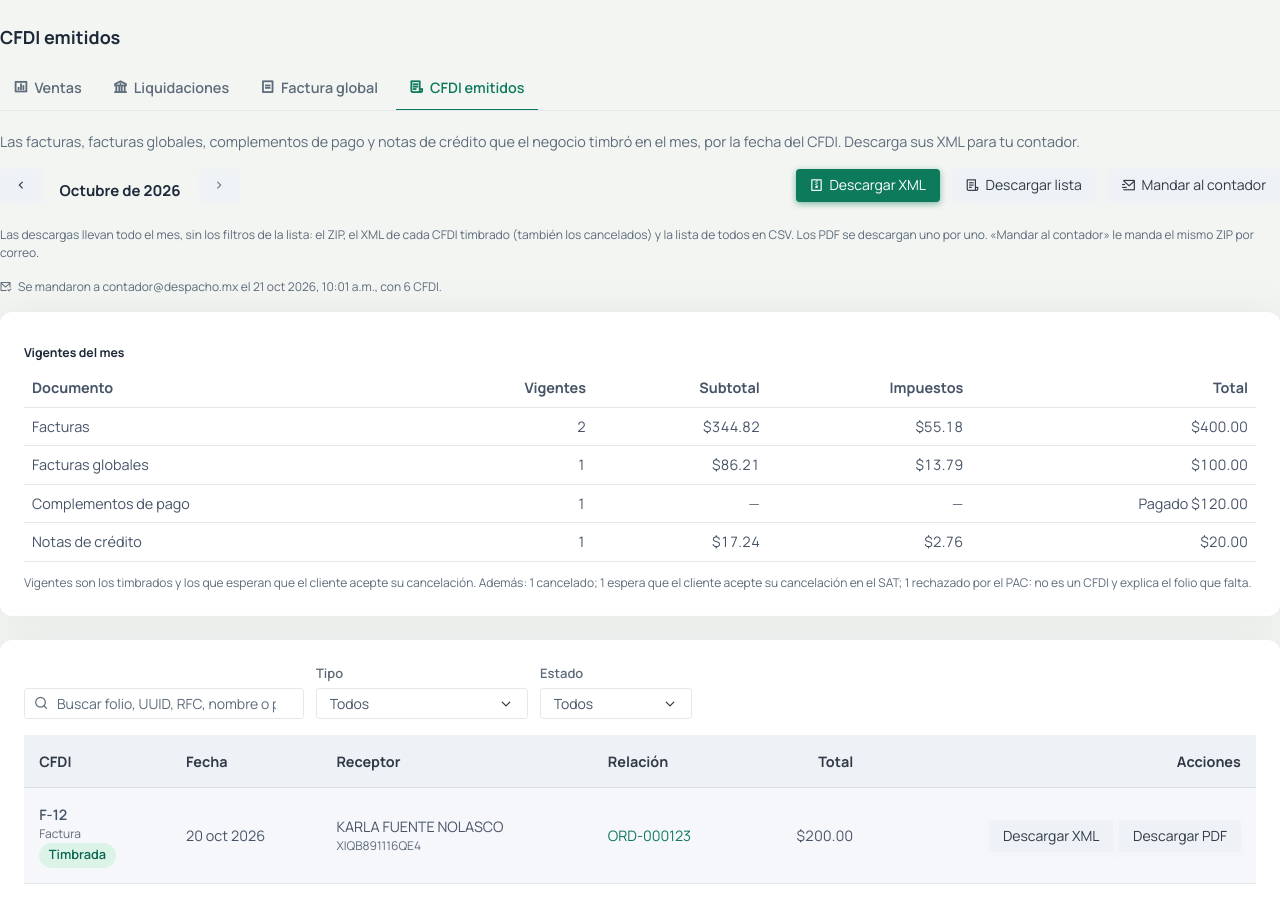
IssuedCfdis › sends the month's file to the accountant at the address the business keeps, and says how it went (Fase 28O)
Expected: the text "Se mandaron a contador@despacho.mx el 21 oct 2026, 10:01 a.m., con 6 CFDI." is shown, [0,278,442,294]
Click the button "Mandar al contador".
click(1194, 185)  # box [1108,169,1279,202]
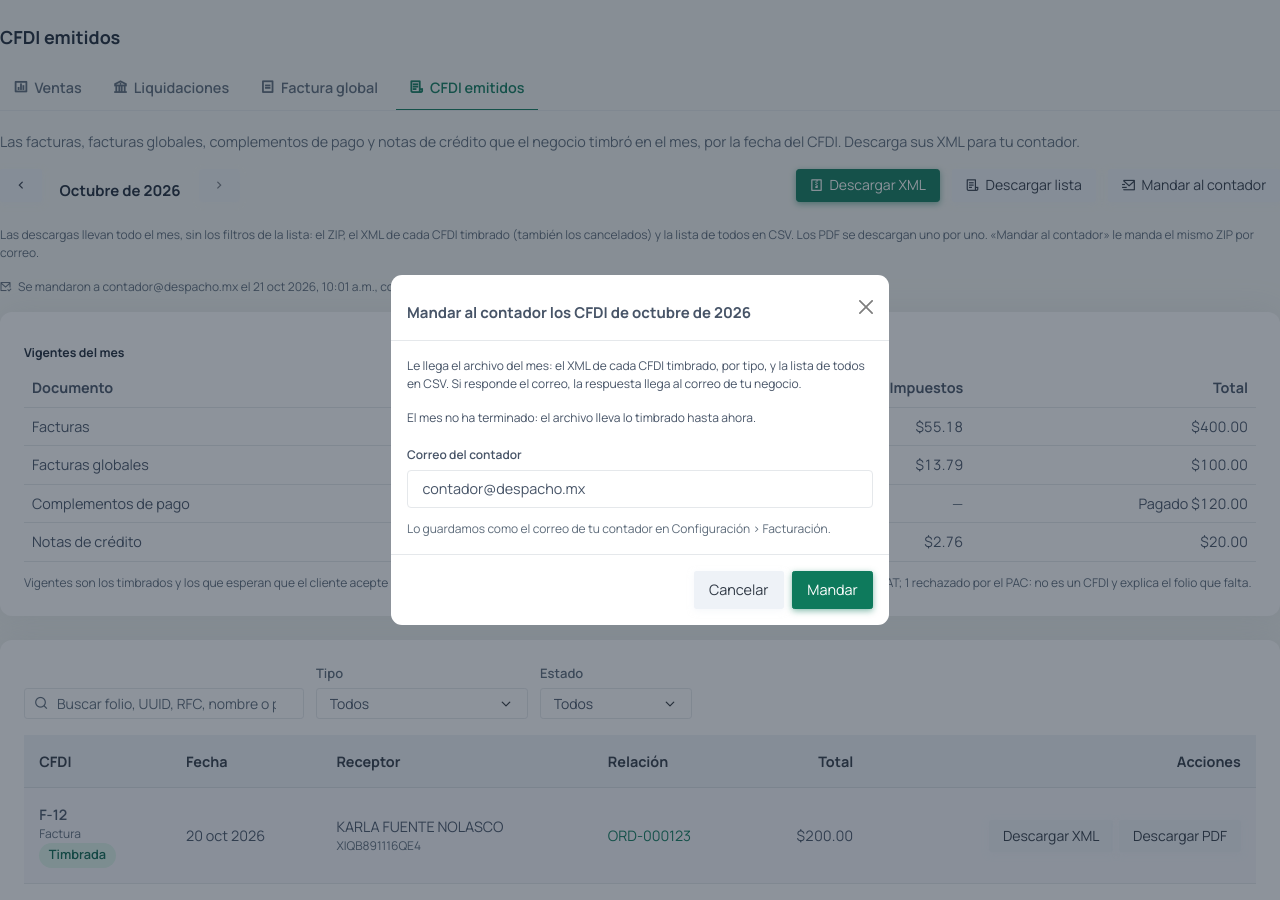
Expected: the field labelled "Correo del contador" holds "contador@despacho.mx"
Replace the text in the field labelled "Correo del contador" with " otra@despacho.mx " at (640,489), box [407,470,873,508]
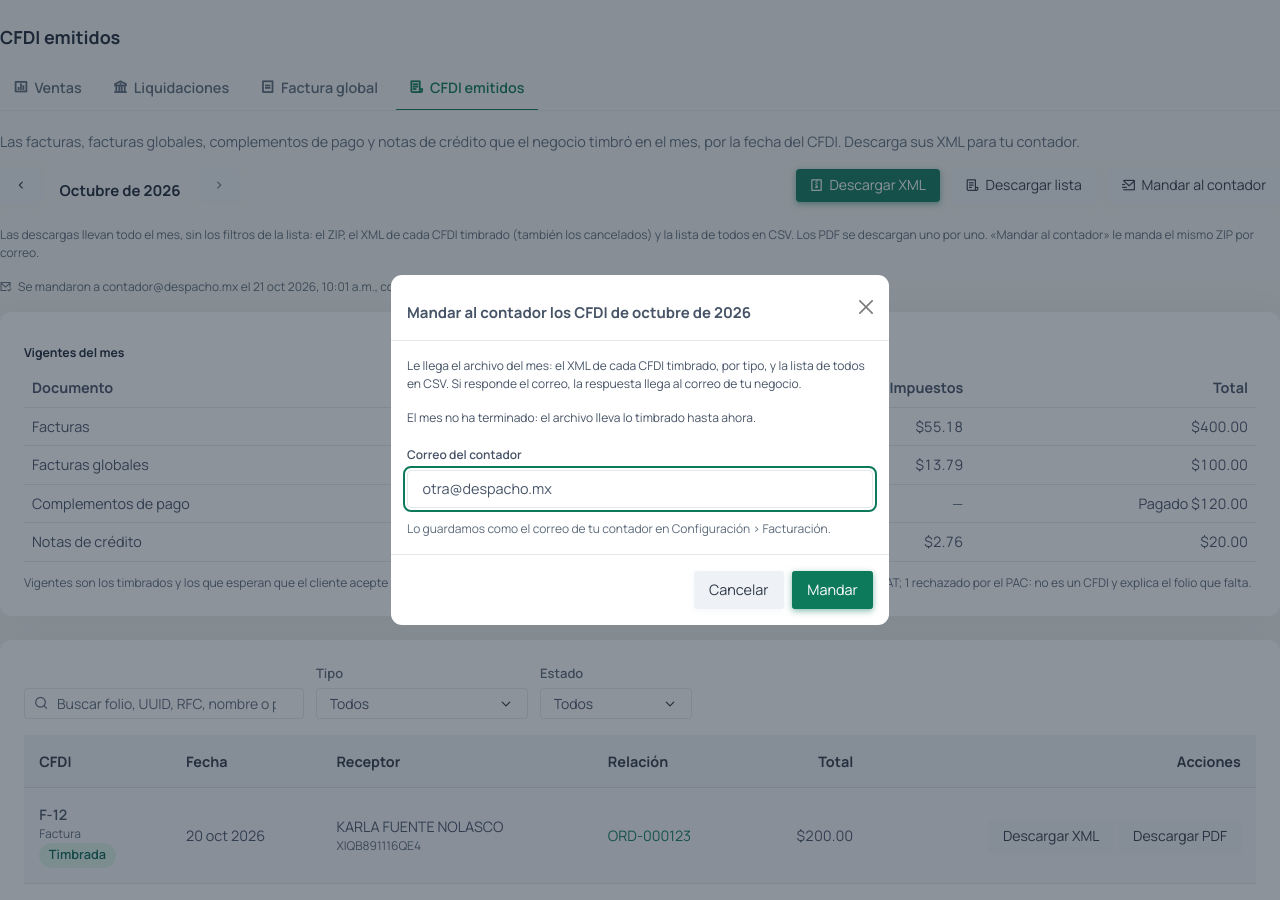
Click the button "Mandar".
click(832, 590)  # box [792,571,873,609]
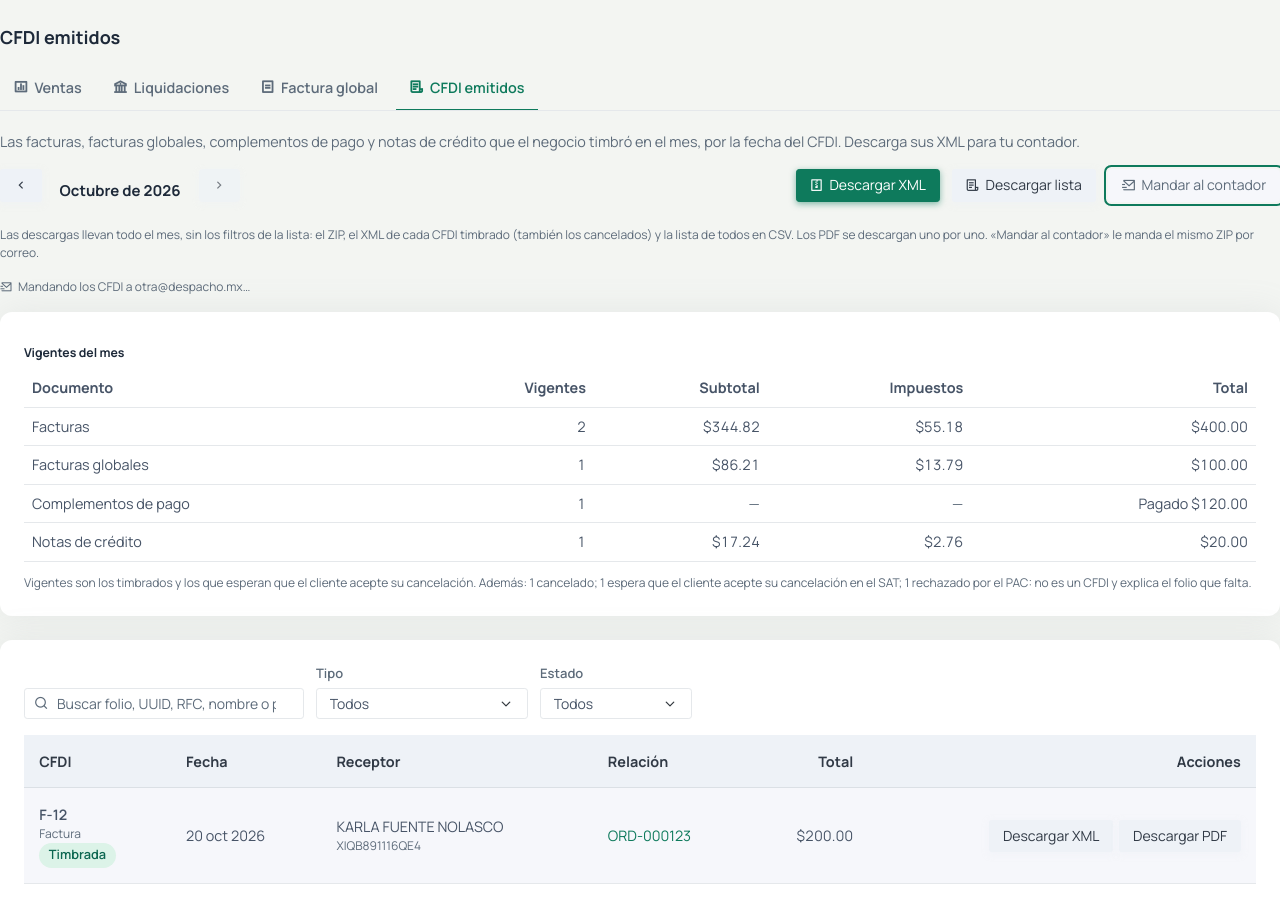
Expected: the text "Mandando los CFDI a otra@despacho.mx…" is shown, [0,278,250,294]
